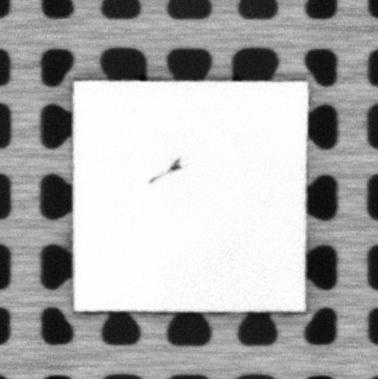DIE_INK: (146, 157, 184, 183)
